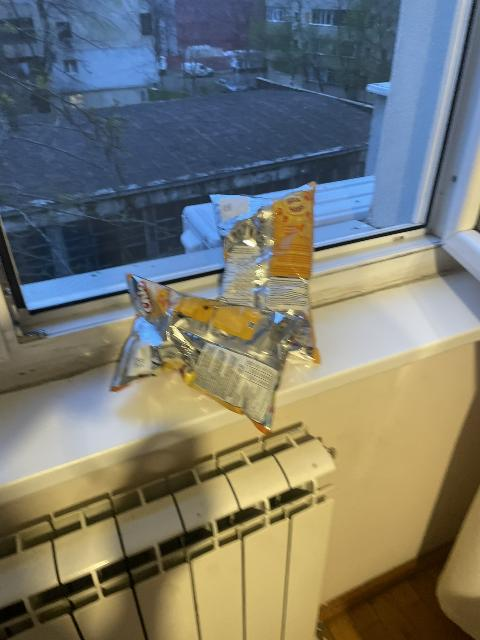Chio Cascaval 125g: (116, 275, 312, 431)
Chio Hula Hoops Cheese 70g: (212, 185, 318, 340)
